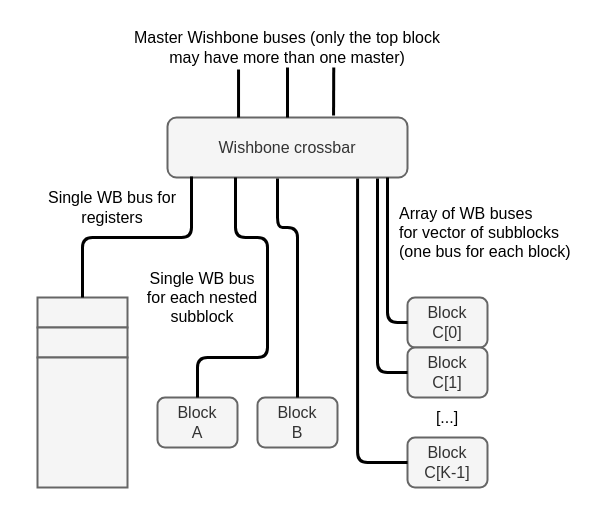
The diagram is 614 pixels wide and 524 high, and some of its shapes have lost their labels. Each missing label, with the box of its shape:
ID: (36, 296, 128, 328)
Other registers or register vectors: (36, 356, 128, 488)
VER: (36, 326, 128, 358)
